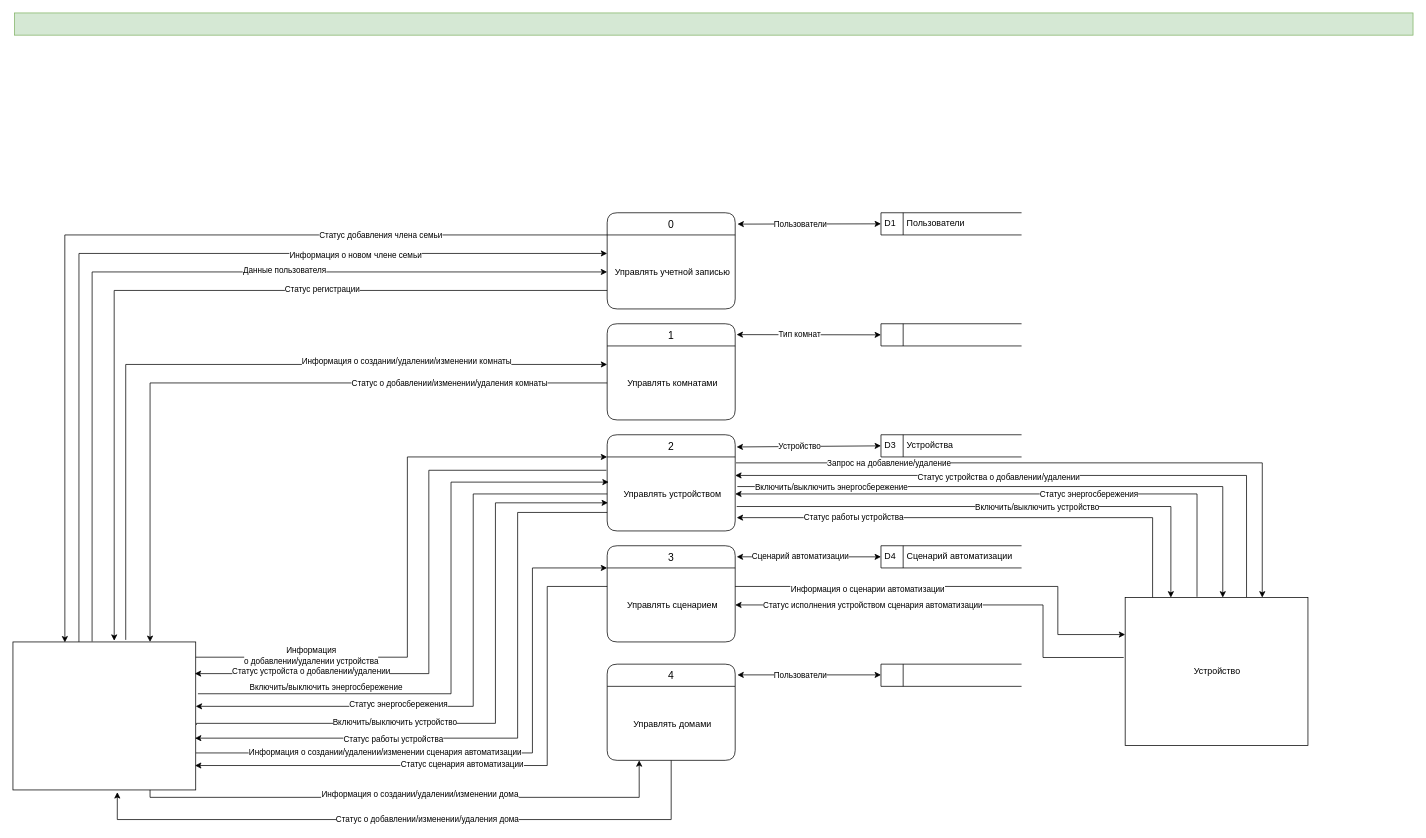
This 1426x838 diagram has some shape labels left out. The shapes that lost their labels are listed below. From the top down, each one's centre as x and y in pixels, then its label:
the point at 713,23: Логическая DFD диаграмма STETS
the point at 951,334: D2 Тип комнат
the point at 951,674: D5 Дома
the point at 104,715: Пользователь
